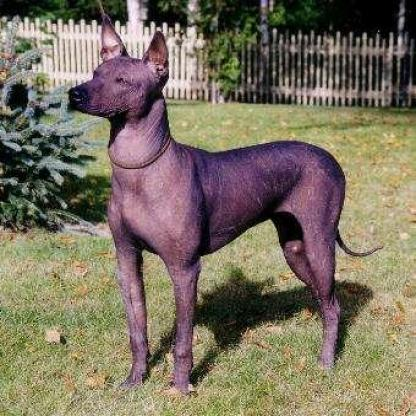Mexican_hairless: (68, 16, 386, 396)
